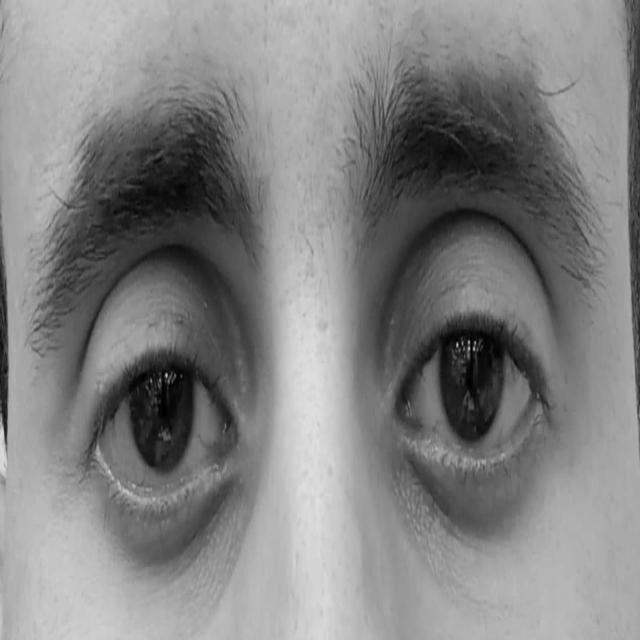real: (26, 100, 600, 564)
